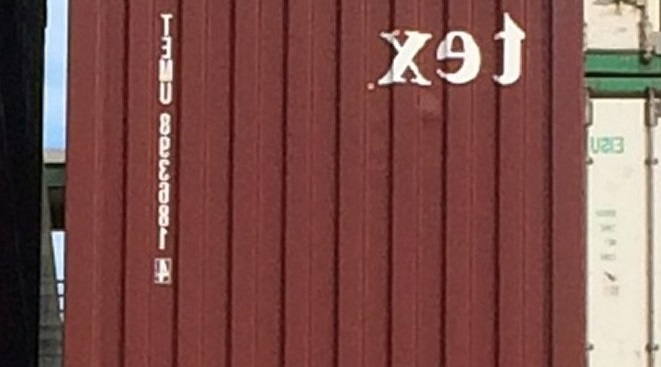container_no_door: (71, 4, 586, 367)
